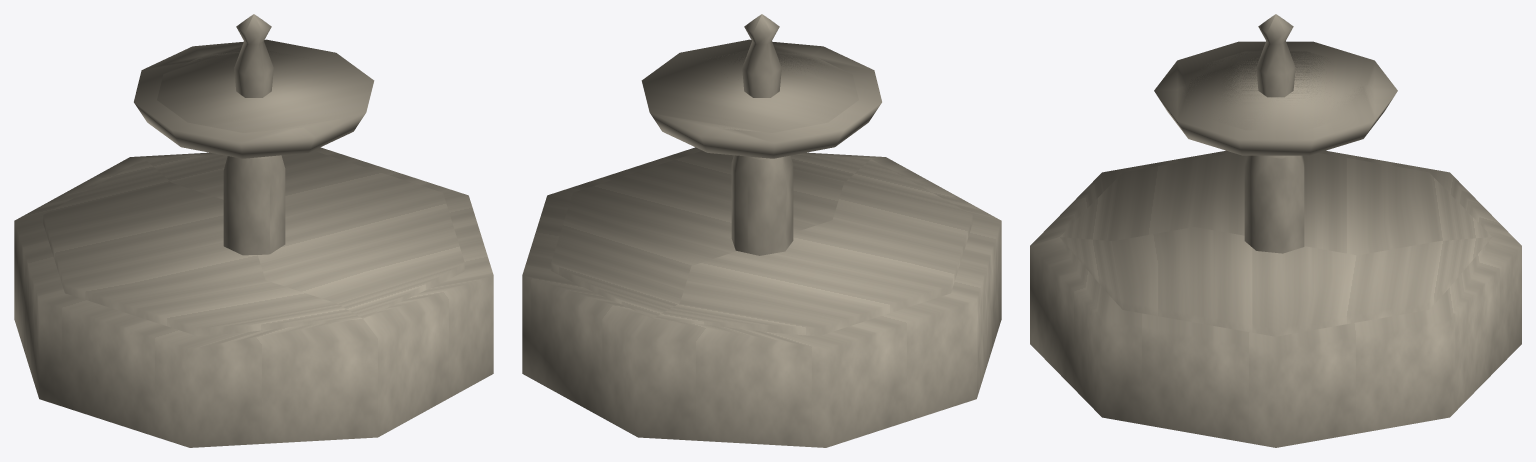
File: Fountain_Basin_1_LOD1.gltf
3 renders of one model, left to right at view 1: azimuth 30°, elevation 25°; view 2: azimuth 150°, elevation 25°; view 3: azimuth 270°, elevation 25°, orthographic.
Visible parts, largest first — view 1: Fountain_Basin_1_LOD1; view 2: Fountain_Basin_1_LOD1; view 3: Fountain_Basin_1_LOD1.
Part boxes in pixels (x1=…): Fountain_Basin_1_LOD1: x1=14, y1=14, x2=493, y2=447; Fountain_Basin_1_LOD1: x1=522, y1=14, x2=1001, y2=447; Fountain_Basin_1_LOD1: x1=1030, y1=14, x2=1521, y2=447.
Bounding box in the file's own units: 2.5 × 1.85 × 2.5.
Materials: 1 (1 with a texture image).
